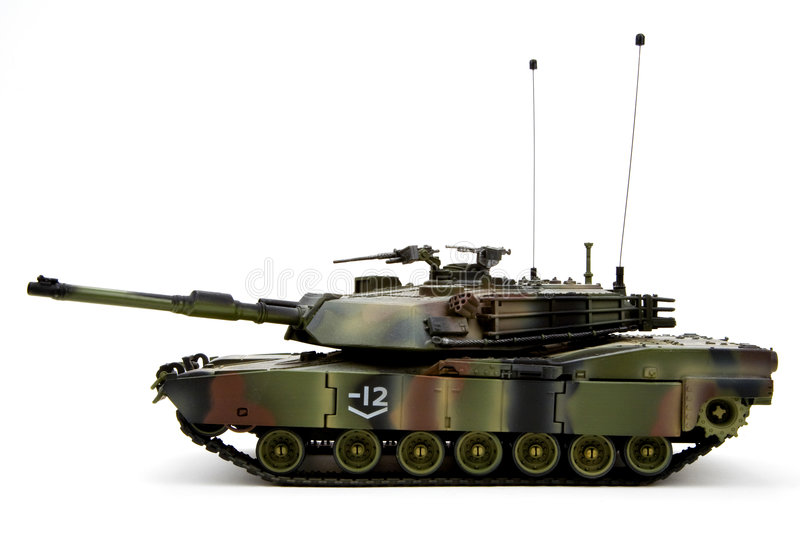abrams: (29, 268, 778, 494)
